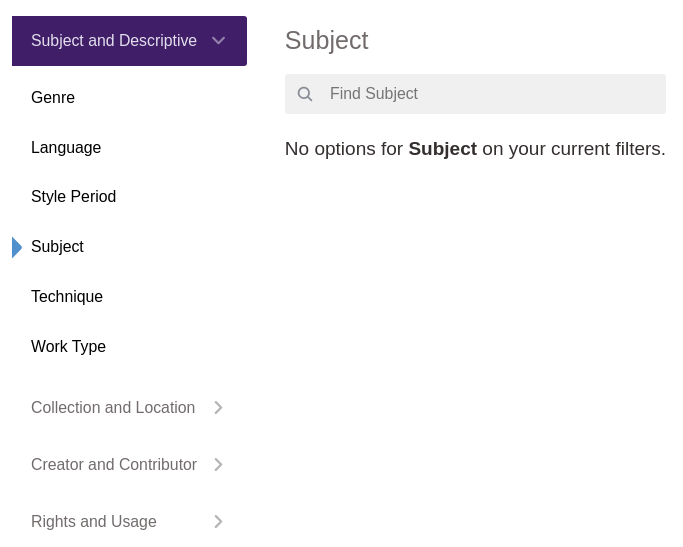
Test: FacetsGroupList component › renders facet children when facet group is clicked
Click the text "Collection and Location" at (113, 408), box left=31, top=399, right=195, bottom=416
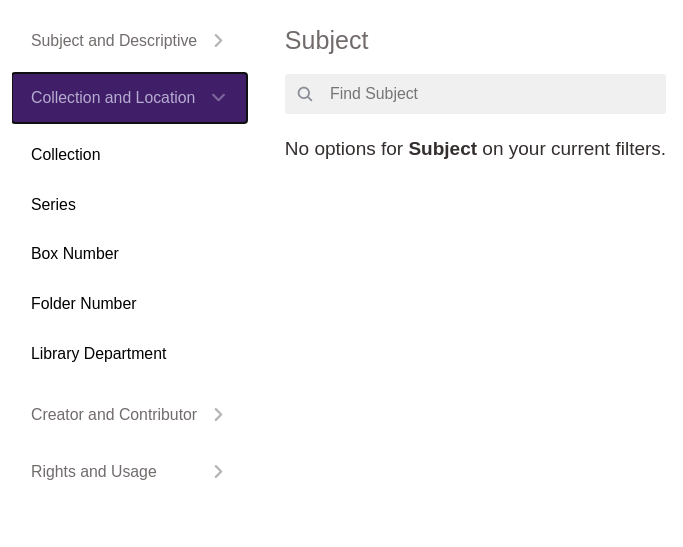
expect the tab "Collection" is shown: met, box left=12, top=130, right=247, bottom=180
expect the tab "Series" is shown: met, box left=12, top=180, right=247, bottom=229
expect the tab "Box Number" is shown: met, box left=12, top=229, right=247, bottom=279
